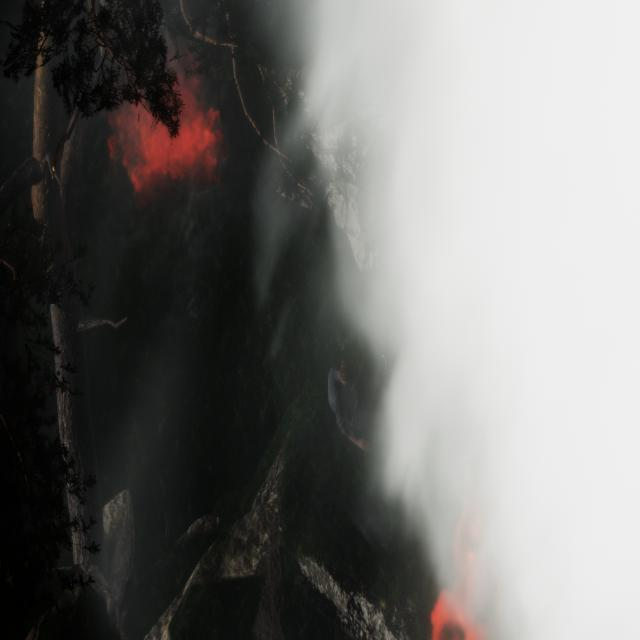Human: (325, 324, 404, 466)
